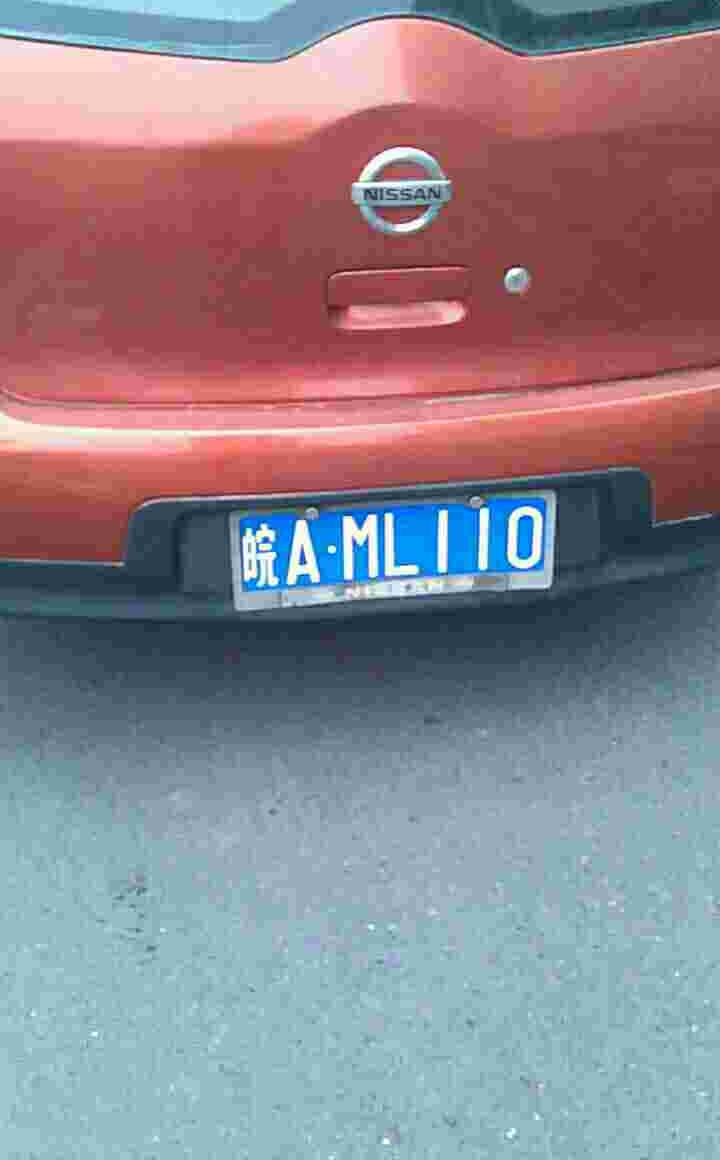license_plate: (235, 499, 545, 587)
